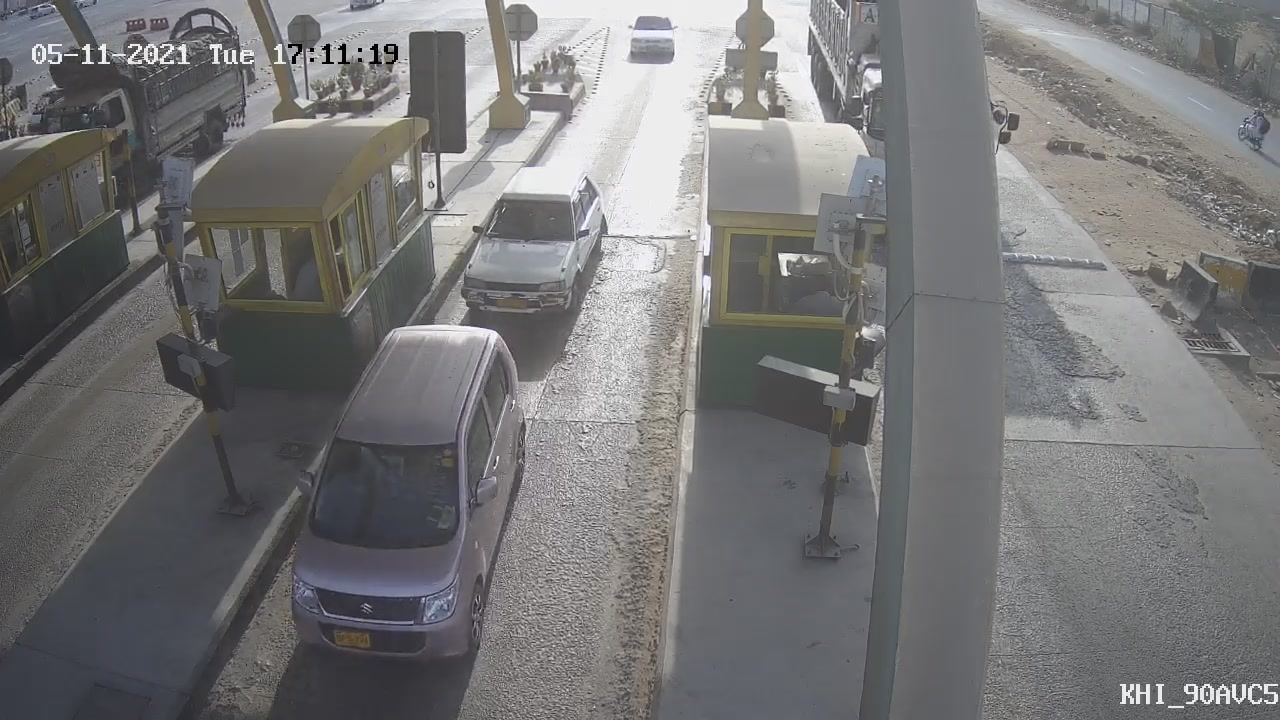F1: (444, 152, 625, 331)
